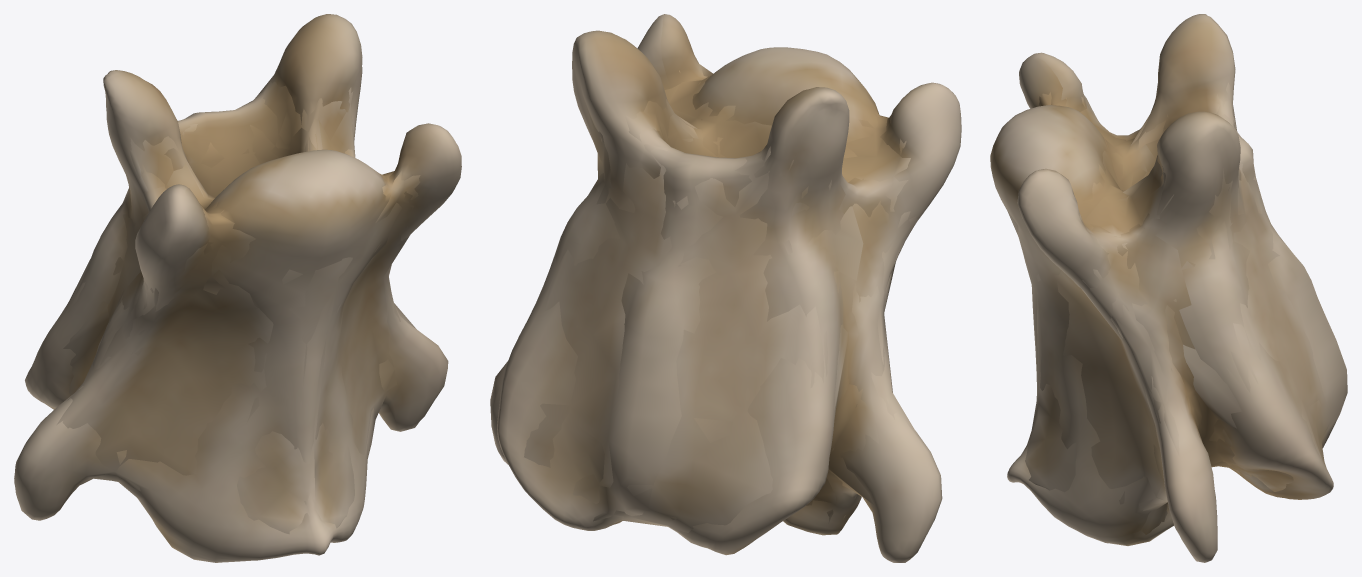
File: vertebra cervicalis 4.fbx
3 renders of one model, left to right at view 1: azimuth 30°, elevation 25°; view 2: azimuth 150°, elevation 25°; view 3: azimuth 270°, elevation 25°, orthographic. The views are drawn at different scales.
Visible parts, largest first — view 1: vertebra cervicalis 4, vertebra cervicalis 4 low; view 2: vertebra cervicalis 4, vertebra cervicalis 4 low; view 3: vertebra cervicalis 4, vertebra cervicalis 4 low.
Part boxes in pixels (box(x1,y1,x2,y2)): vertebra cervicalis 4: box(14, 14, 461, 562); vertebra cervicalis 4 low: box(49, 75, 420, 553); vertebra cervicalis 4: box(490, 14, 961, 562); vertebra cervicalis 4 low: box(524, 63, 918, 532); vertebra cervicalis 4: box(990, 14, 1347, 562); vertebra cervicalis 4 low: box(1007, 82, 1331, 534).
Size of the model in its own units: 12.68 by 13.19 by 9.61.
Materials: 1 (1 with a texture image).
